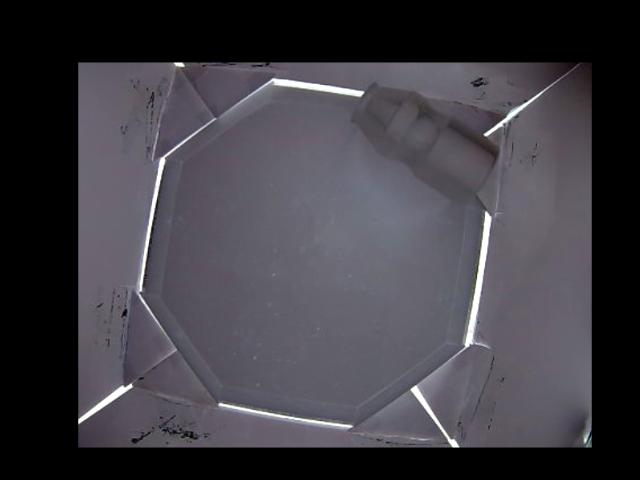Bottle: (348, 81, 499, 207)
